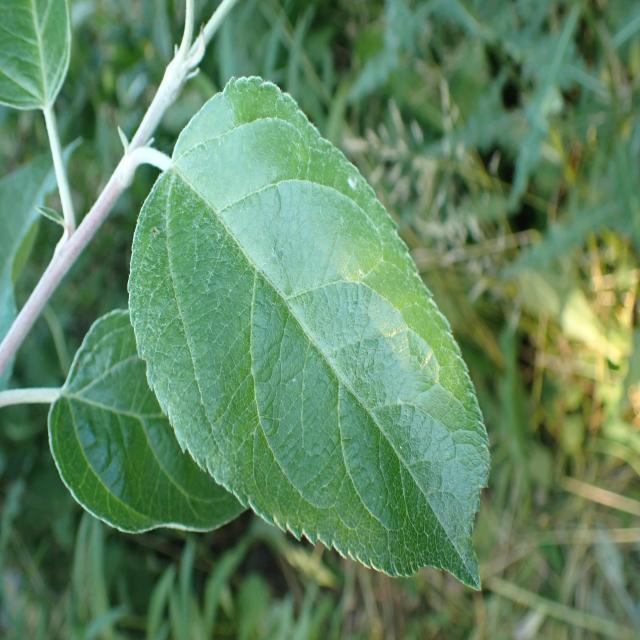healthy: (127, 75, 492, 591), (48, 307, 247, 534), (0, 0, 71, 112)
